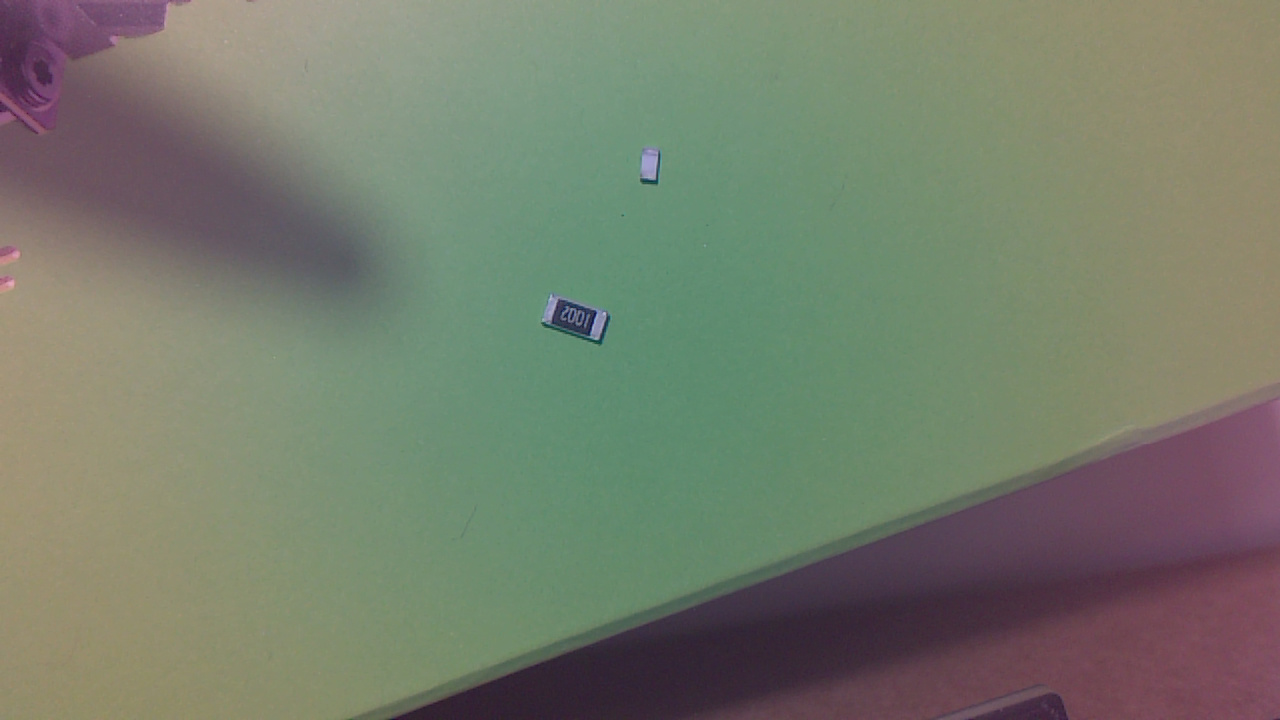Resistor: (545, 296, 616, 348)
